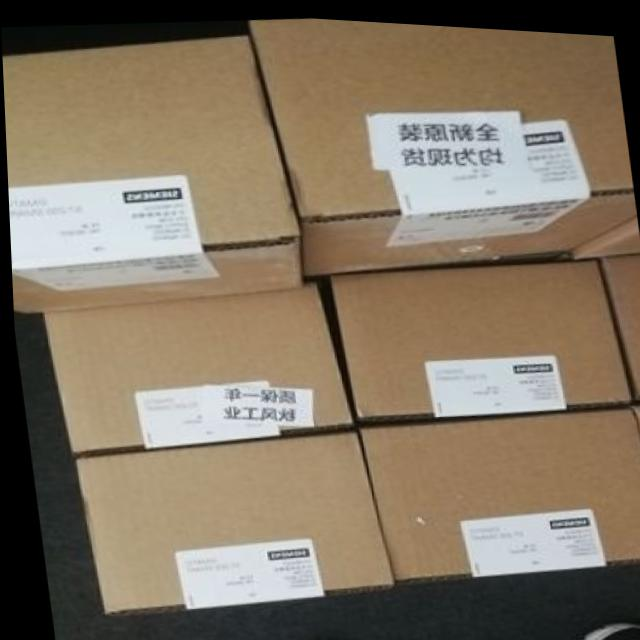box: (248, 15, 634, 274), (2, 30, 300, 313), (72, 424, 387, 613), (38, 273, 349, 458), (354, 400, 640, 581), (326, 249, 632, 416), (594, 246, 640, 388), (563, 208, 640, 251), (626, 398, 640, 448)
